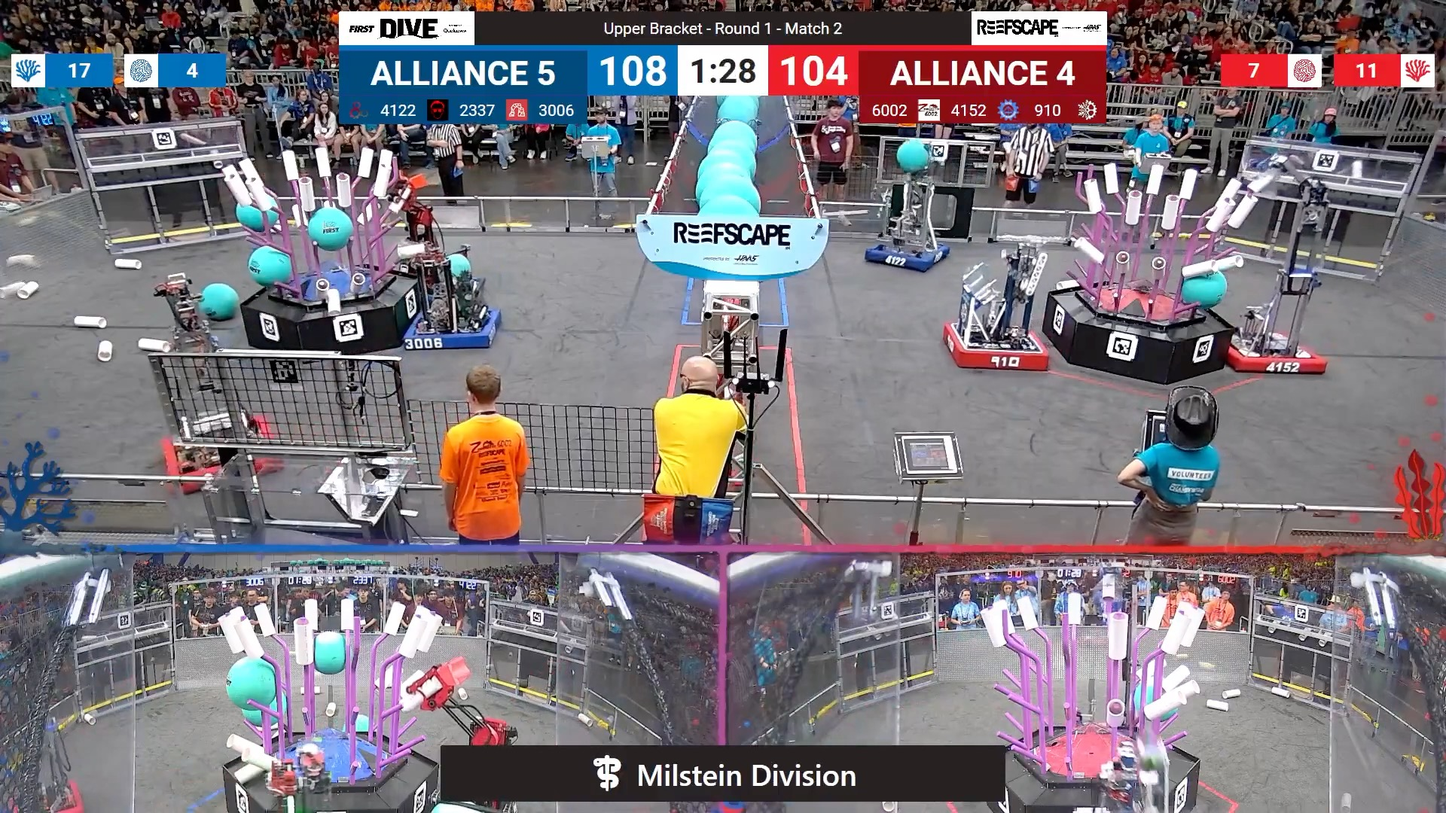bumpers: (157, 416, 287, 488), (938, 320, 1056, 376), (1216, 329, 1332, 379), (398, 303, 506, 355), (0, 771, 90, 811), (857, 239, 955, 274)
